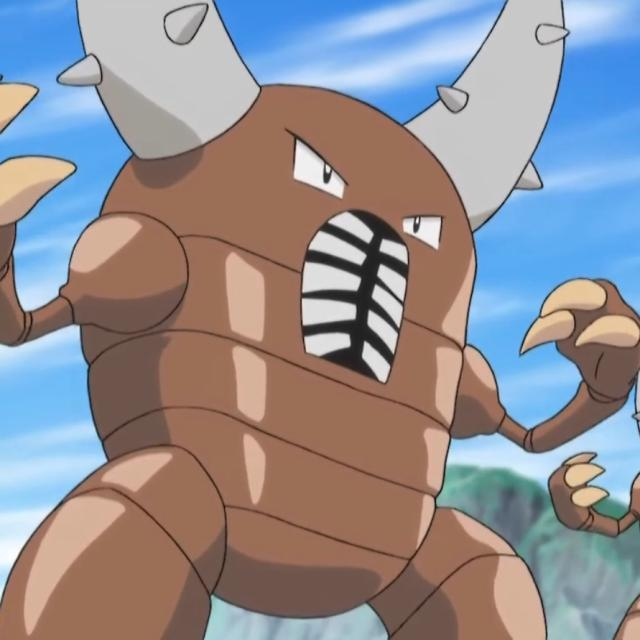Pinsir: (70, 0, 566, 640)
